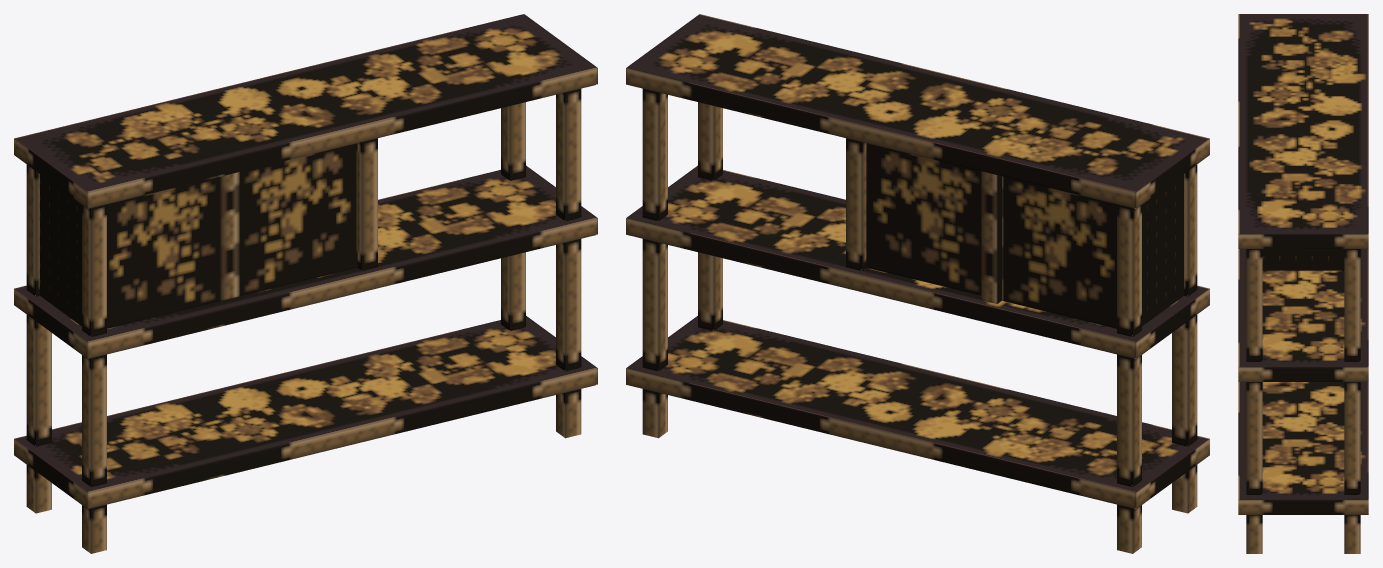
The model's file is short_shelvs.obj.
The picture shows the model from 3 angles, left to right: view 1: azimuth 30°, elevation 25°; view 2: azimuth 150°, elevation 25°; view 3: azimuth 270°, elevation 25°; orthographic projection. The views are drawn at different scales.
Visible parts, largest first — view 1: Default; view 2: Default; view 3: Default.
Boxes of the visible parts, box(x1,y1,x2,y2) form: Default: box(14, 14, 597, 553); Default: box(626, 14, 1209, 553); Default: box(1238, 14, 1368, 553).
Bounding box in the file's own units: 1.28 × 0.88 × 0.32.
Materials: 1 (1 with a texture image).
